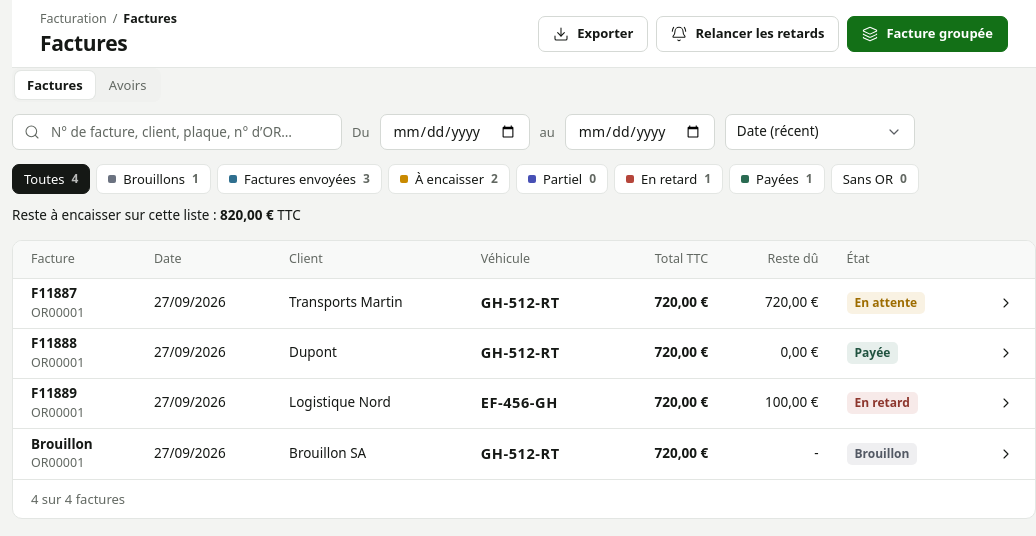
Test: liste des factures › toutes par défaut, filtres, recherche et reste à encaisser
Expected: the text "Transports Martin" is shown, [275, 279, 467, 329]
Expected: the text "Brouillon SA" is shown, [275, 429, 467, 479]
Click the button "À encaisser 2" at (449, 179), box [388, 164, 510, 194]
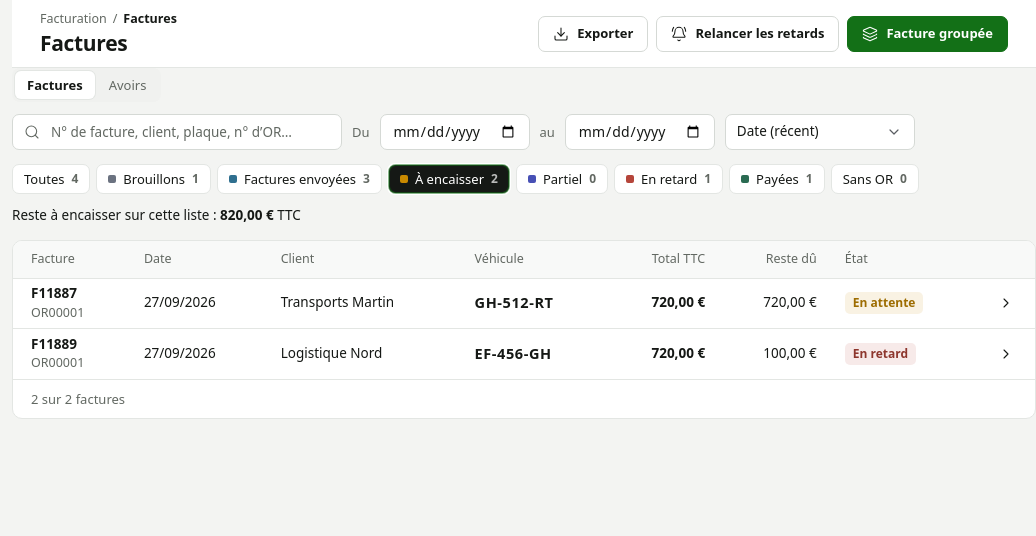
Expected: the text "Reste à encaisser sur cette liste : 820,00 € TTC" is shown, [12, 206, 301, 226]
Result: the text "Dupont" is gone
Result: the text "Brouillon SA" is gone
Click the button "En retard 1" at (669, 179), box [614, 164, 723, 194]
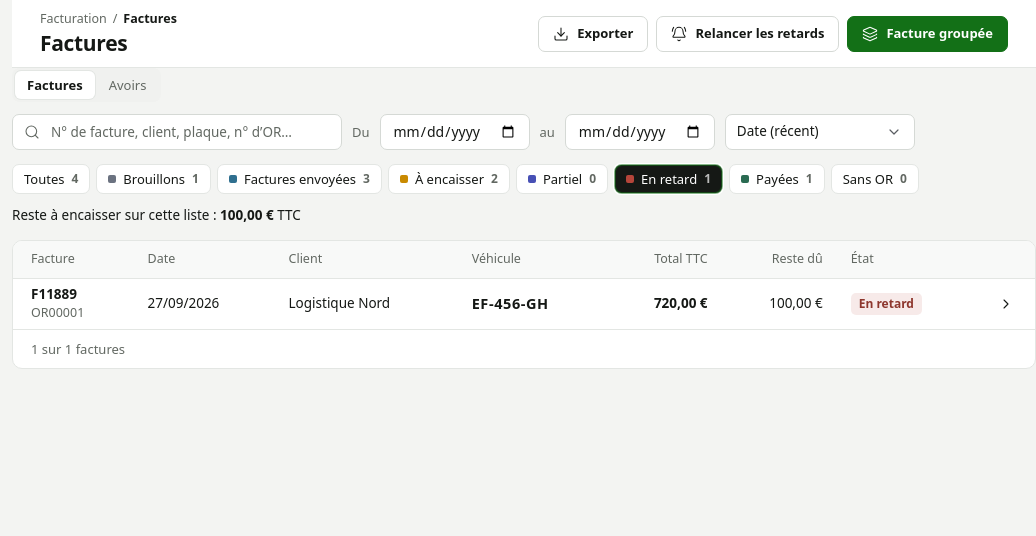
Expected: the text "Logistique Nord" is shown, [274, 279, 458, 329]
Result: the text "Transports Martin" is gone
Click the button "Toutes 4" at (51, 179), box [12, 164, 90, 194]
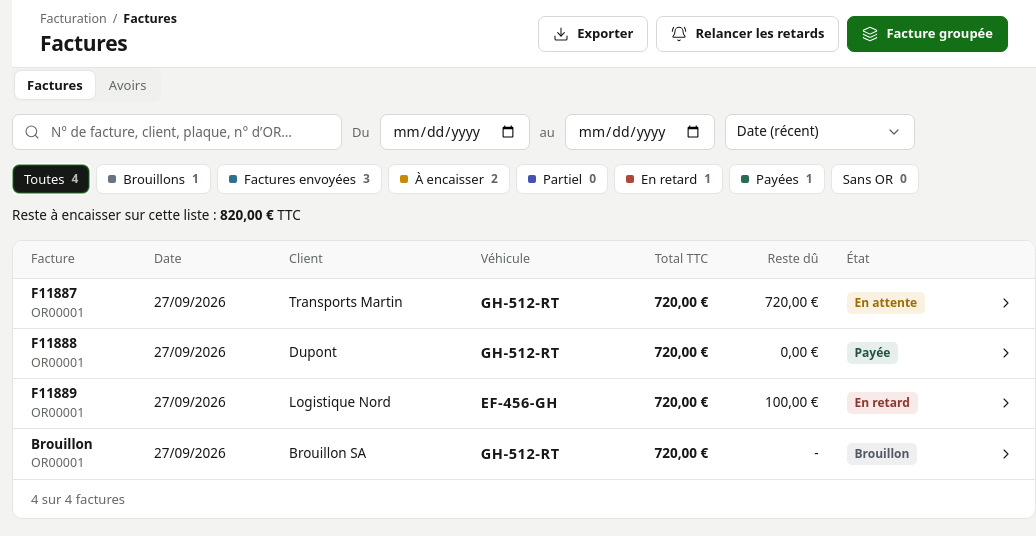
Type "ef456" into the search field named "Rechercher une facture" at (177, 132), box [12, 114, 342, 150]
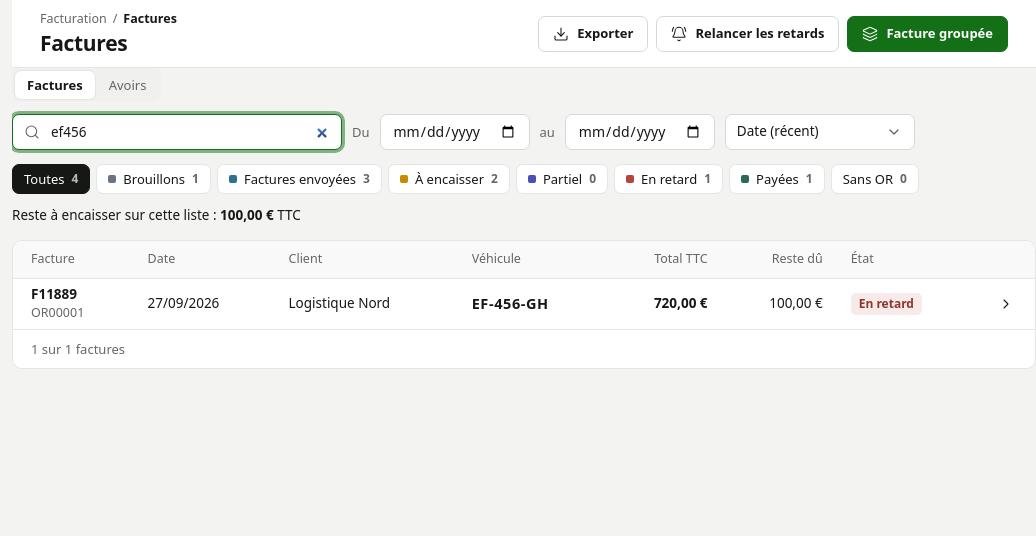
Expected: the text "Logistique Nord" is shown, [274, 279, 458, 329]
Result: the text "Dupont" is gone
